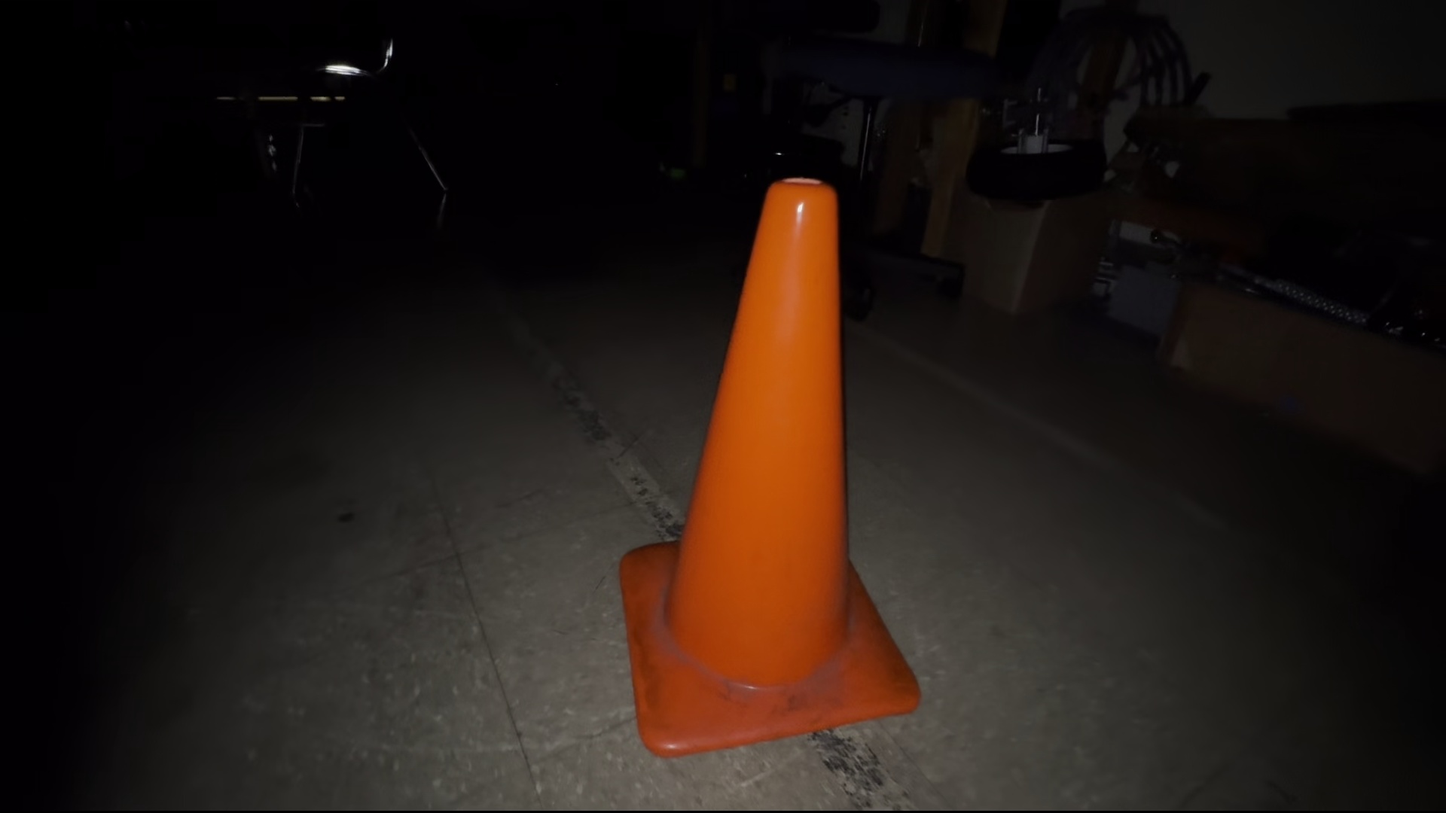traffic_cone: (618, 175, 922, 758)
